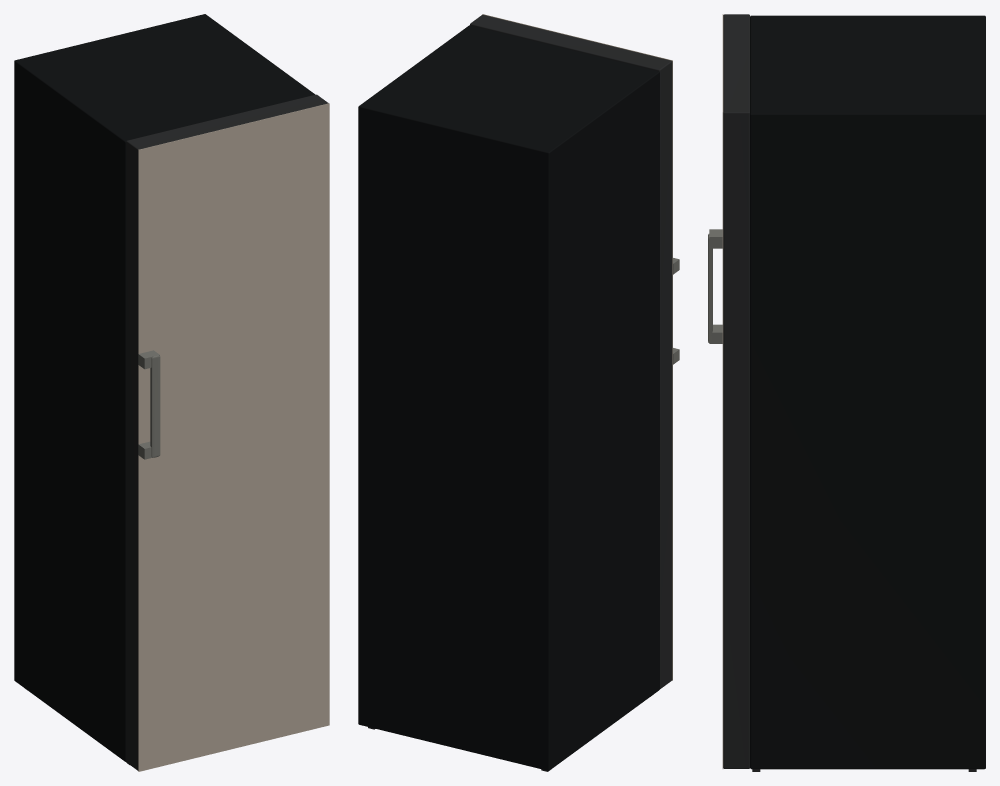
The picture shows the model from 3 angles, left to right: view 1: azimuth 30°, elevation 25°; view 2: azimuth 150°, elevation 25°; view 3: azimuth 270°, elevation 25°; orthographic projection. The views are drawn at different scales.
Visible parts, largest first — view 1: FrontPanel, body, door_0, handle_lower_mount; view 2: body, door_0, FrontPanel; view 3: body, door_0, FrontPanel, handle_lower_mount.
Part boxes in pixels (bbox=[...]): FrontPanel: bbox=[138, 103, 329, 771]; body: bbox=[14, 14, 314, 761]; door_0: bbox=[126, 94, 328, 770]; handle_lower_mount: bbox=[138, 350, 160, 459]; body: bbox=[358, 25, 659, 770]; door_0: bbox=[368, 15, 672, 771]; FrontPanel: bbox=[482, 14, 672, 680]; body: bbox=[750, 15, 985, 769]; door_0: bbox=[723, 14, 976, 771]; FrontPanel: bbox=[722, 14, 723, 768]; handle_lower_mount: bbox=[708, 229, 722, 343].
Bounding box in the file's own units: 0.595 × 1.86 × 0.707.
